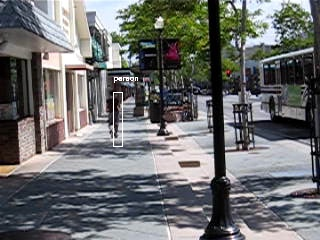person: (106, 90, 122, 141), (105, 90, 121, 141), (107, 90, 123, 141), (106, 89, 122, 140), (106, 91, 122, 142)
target_negative: (139, 133, 301, 221), (163, 40, 191, 216), (239, 166, 271, 218), (214, 105, 275, 116), (175, 217, 276, 221)
